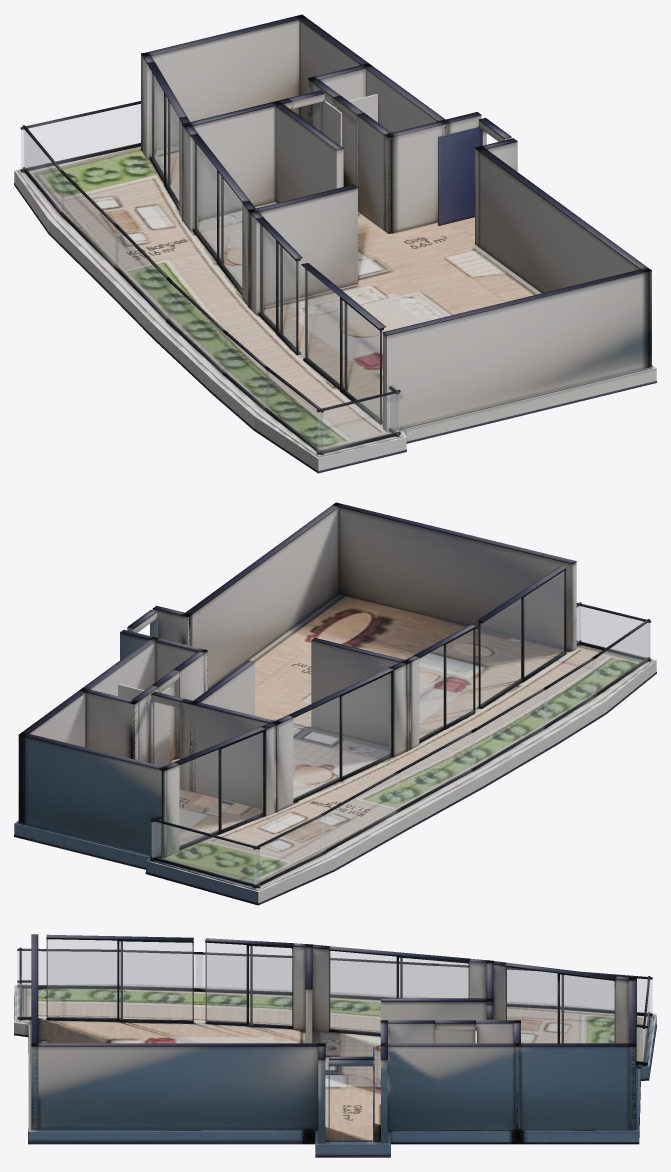
The picture shows the model from 3 angles, top to bottom: view 1: azimuth 30°, elevation 25°; view 2: azimuth 150°, elevation 25°; view 3: azimuth 270°, elevation 25°; orthographic projection. The views are drawn at different scales.
Visible parts, largest first — view 1: plan, glass3_m, railg0_m, glass1_m, railg3_m, glass2_m, railg6_m, glass0_m, railg8_m, railg4_m, railg7_m, railg5_m (+1 smaller); view 2: plan, glass1_m, glass3_m, glass0_m, glass2_m, railg0_m, railg7_m, railg8_m, railg6_m, railg9_m, railg3_m, railg4_m (+1 smaller); view 3: plan, glass3_m, glass1_m, glass0_m, glass2_m, railg7_m, railg6_m, railg4_m, railg5_m, railg8_m, railg9_m, railg2_m (+1 smaller).
Part boxes in pixels (x1,y1,x2,y2): plan: [14, 14, 656, 473]; glass3_m: [304, 268, 382, 421]; railg0_m: [21, 104, 140, 169]; glass1_m: [194, 141, 241, 289]; railg3_m: [317, 394, 399, 451]; glass2_m: [259, 223, 299, 352]; railg6_m: [167, 281, 227, 373]; glass0_m: [151, 71, 178, 203]; railg8_m: [61, 174, 118, 267]; railg4_m: [266, 370, 322, 451]; railg7_m: [115, 228, 170, 321]; railg5_m: [224, 333, 269, 410]; plan: [14, 502, 656, 905]; glass1_m: [293, 673, 390, 799]; glass3_m: [480, 571, 563, 705]; glass0_m: [179, 732, 262, 846]; glass2_m: [419, 630, 472, 739]; railg0_m: [151, 822, 259, 885]; railg7_m: [395, 732, 475, 809]; railg8_m: [321, 773, 399, 851]; railg6_m: [472, 689, 547, 768]; railg9_m: [254, 815, 325, 885]; railg3_m: [577, 606, 650, 658]; railg4_m: [592, 623, 648, 695]; plan: [14, 934, 656, 1157]; glass3_m: [47, 939, 192, 1020]; glass1_m: [329, 951, 468, 1033]; glass0_m: [505, 967, 614, 1042]; glass2_m: [205, 943, 291, 1025]; railg7_m: [331, 961, 431, 997]; railg6_m: [196, 954, 291, 991]; railg4_m: [17, 951, 113, 985]; railg5_m: [123, 952, 202, 988]; railg8_m: [438, 966, 549, 1005]; railg9_m: [556, 974, 652, 1013]; railg2_m: [17, 983, 30, 1016].
Size of the model in its own units: 9.4 by 2.62 by 15.8.
2 materials, 1 textured.
